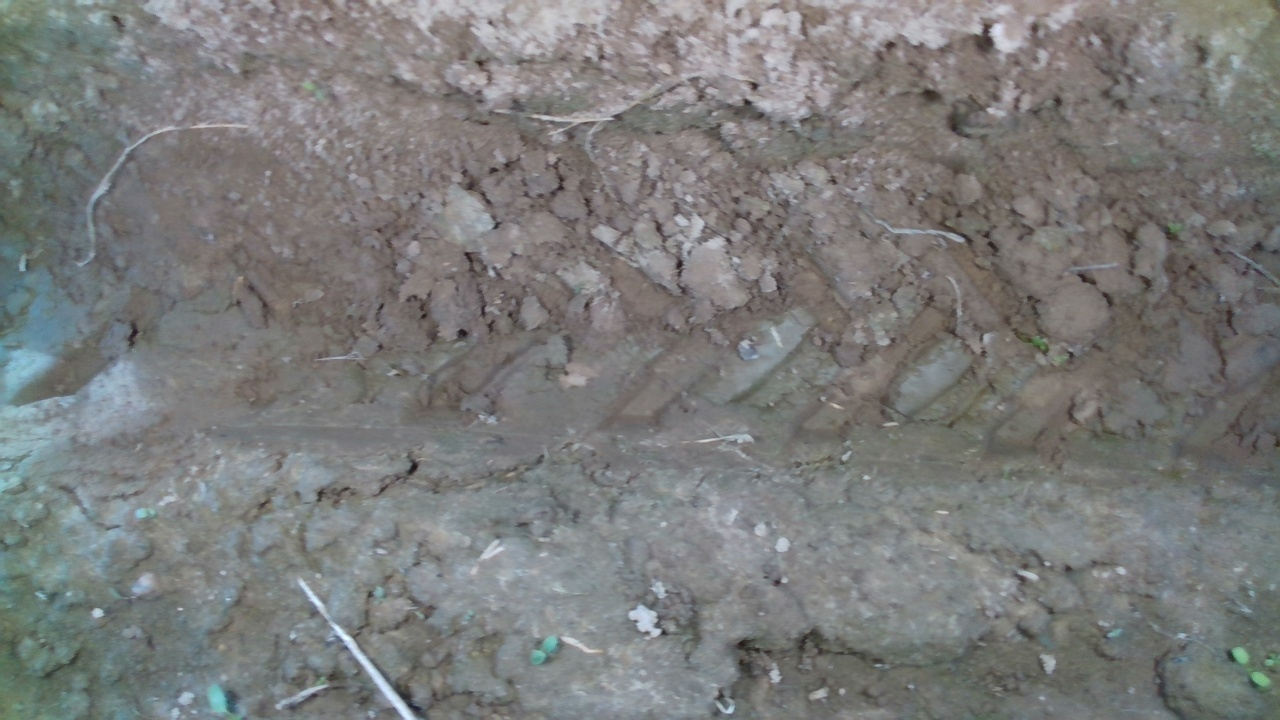weed: (527, 632, 559, 668)
